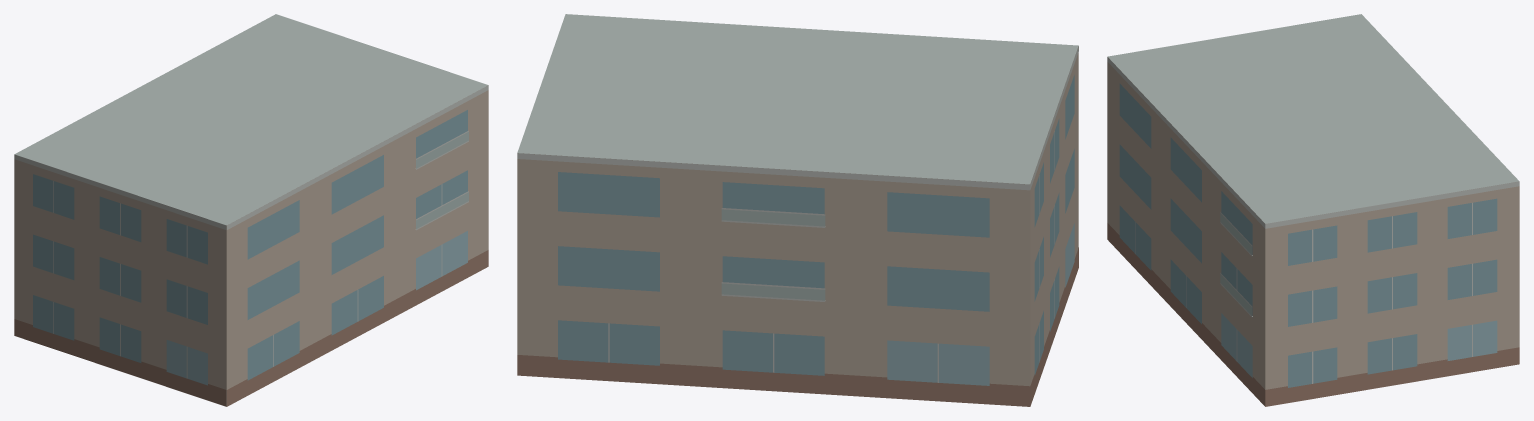
The model's file is survey-upis-32993741.glb.
The picture shows the model from 3 angles, left to right: view 1: azimuth 30°, elevation 25°; view 2: azimuth 150°, elevation 25°; view 3: azimuth 270°, elevation 25°; orthographic projection. The views are drawn at different scales.
Parts seen in each view (by area): view 1: survey-upis-32993741.tmp; view 2: survey-upis-32993741.tmp; view 3: survey-upis-32993741.tmp.
Boxes of the visible parts, x1,y1,x2,y2 form: survey-upis-32993741.tmp: (14,14,488,406); survey-upis-32993741.tmp: (517,14,1078,406); survey-upis-32993741.tmp: (1107,14,1519,406).
Bounding box in the file's own units: 22.53 × 9.15 × 18.69.
